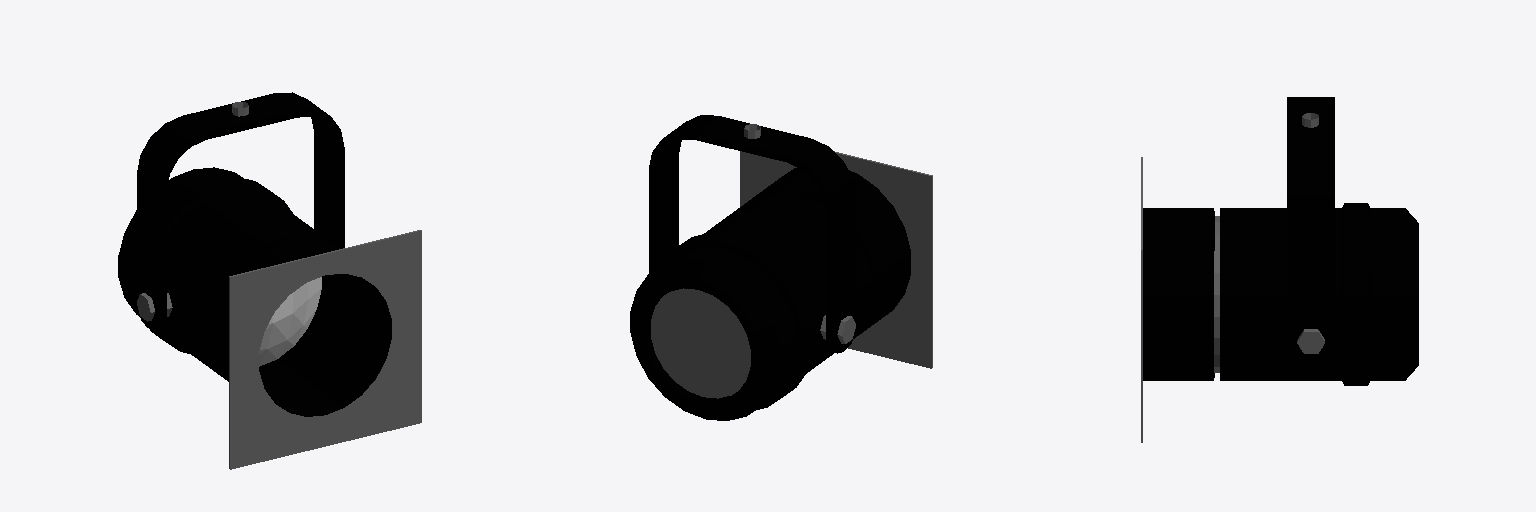
Rendered from spotlight.obj.
3 renders of one model, left to right at view 1: azimuth 30°, elevation 25°; view 2: azimuth 150°, elevation 25°; view 3: azimuth 270°, elevation 25°, orthographic.
Visible parts, largest first — view 1: obj1, obj2, obj3; view 2: obj1, obj2; view 3: obj1, obj2.
Boxes of the visible parts, x1=… form: obj1: x1=118, y1=92, x2=391, y2=416; obj2: x1=137, y1=102, x2=421, y2=469; obj3: x1=259, y1=277, x2=321, y2=366; obj1: x1=630, y1=115, x2=910, y2=420; obj2: x1=651, y1=124, x2=932, y2=398; obj1: x1=1143, y1=97, x2=1418, y2=385; obj2: x1=1141, y1=113, x2=1324, y2=442.
Bounding box in the file's own units: 0.6738 × 0.9298 × 0.8393.